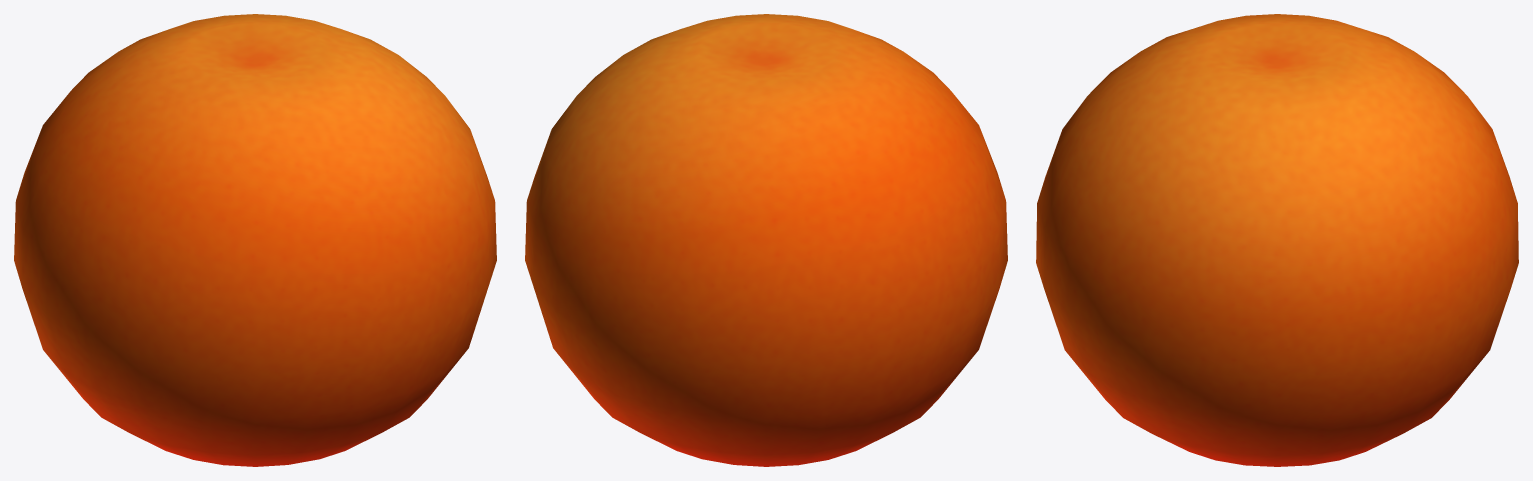
Rendered from OrangeA.glb.
The picture shows the model from 3 angles, left to right: view 1: azimuth 30°, elevation 25°; view 2: azimuth 150°, elevation 25°; view 3: azimuth 270°, elevation 25°; orthographic projection.
Visible parts, largest first — view 1: Orange_R, Orange_L; view 2: Orange_R, Orange_L; view 3: Orange_L, Orange_R.
Boxes of the visible parts, x1,y1,x2,y2 form: Orange_R: (14,21,375,466); Orange_L: (195,14,496,458); Orange_R: (646,21,1007,466); Orange_L: (525,14,826,458); Orange_L: (1036,53,1518,466); Orange_R: (1039,14,1515,197).
Size of the model in its own units: 1.6 by 1.39 by 1.6.
Materials: 1 (1 with a texture image).
